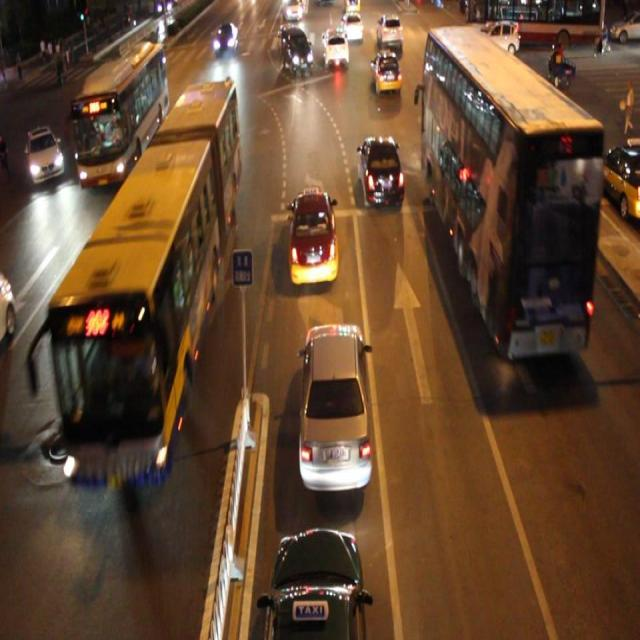car: (297, 319, 373, 495), (260, 526, 367, 640), (287, 188, 339, 284), (358, 136, 403, 208), (25, 127, 65, 184), (280, 28, 314, 75), (372, 49, 401, 93), (376, 12, 403, 50), (324, 31, 349, 70)
van: (49, 80, 238, 490), (420, 26, 591, 356), (72, 41, 166, 187)
